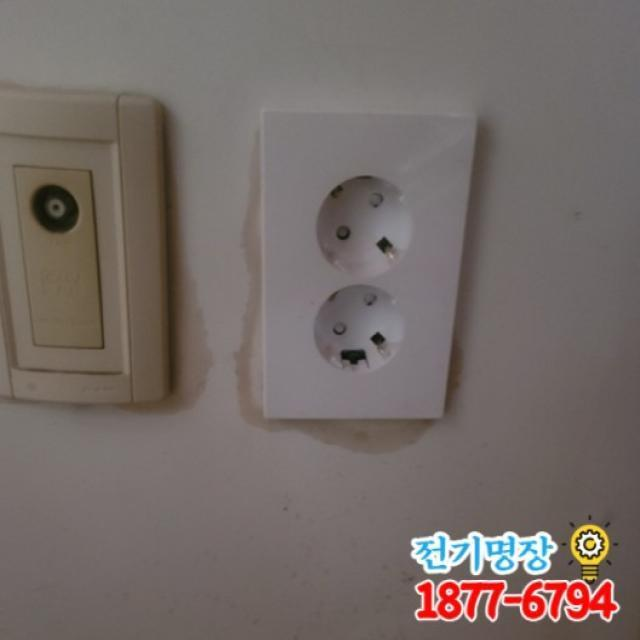typeb: (235, 39, 504, 462)
